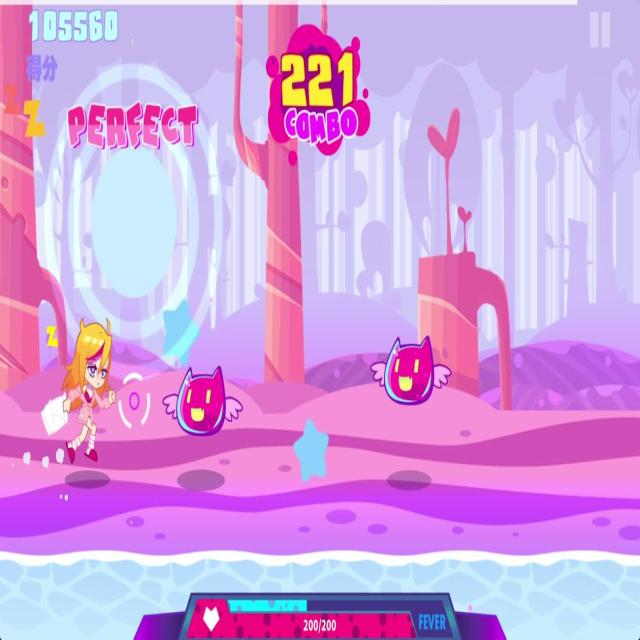mao: (160, 360, 245, 442), (371, 330, 454, 410)
